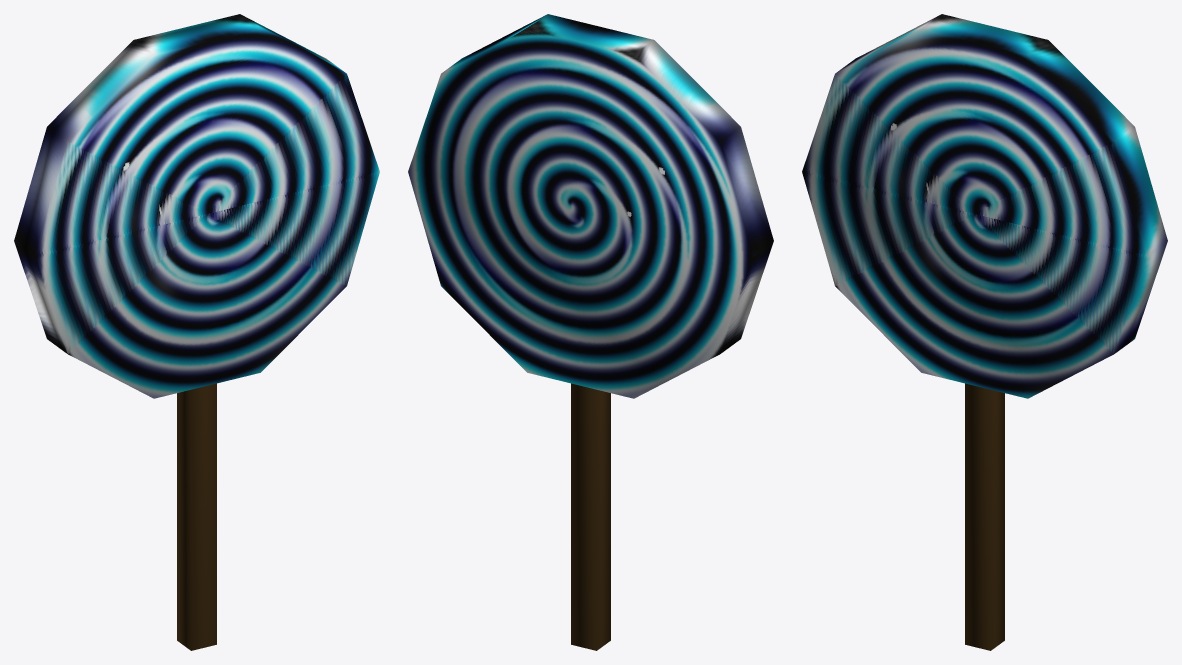
Rendered from tree_11.fbx.
The picture shows the model from 3 angles, left to right: view 1: azimuth 30°, elevation 25°; view 2: azimuth 150°, elevation 25°; view 3: azimuth 330°, elevation 25°; orthographic projection.
Parts seen in each view (by area): view 1: tree_11:Group3, tree_11:Group2; view 2: tree_11:Group3, tree_11:Group2; view 3: tree_11:Group3, tree_11:Group2.
Boxes of the visible parts, x1,y1,x2,y2 form: tree_11:Group3: (14,14,379,398); tree_11:Group2: (177,383,216,650); tree_11:Group3: (408,14,773,398); tree_11:Group2: (571,383,610,650); tree_11:Group3: (802,14,1167,398); tree_11:Group2: (965,383,1004,650).
Bounding box in the file's own units: 6.99 × 11.77 × 0.7265.
